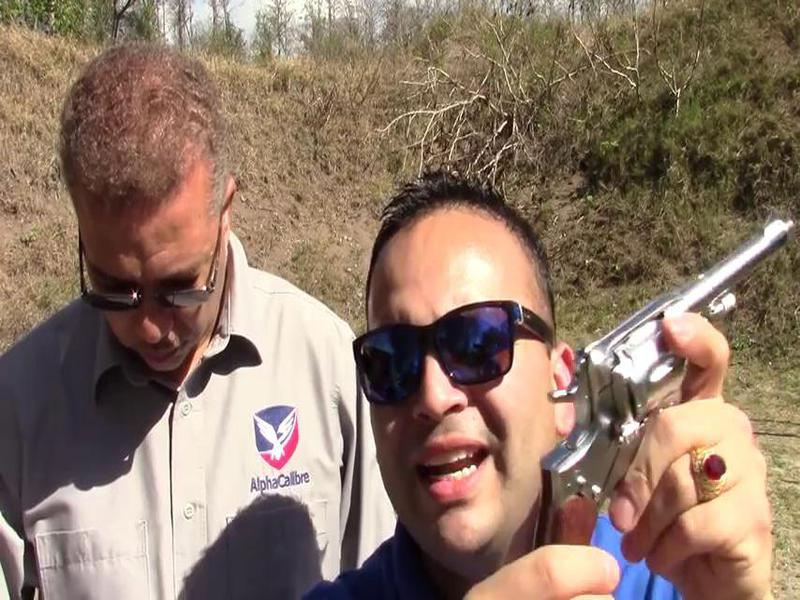Revolver: (523, 197, 795, 599)
